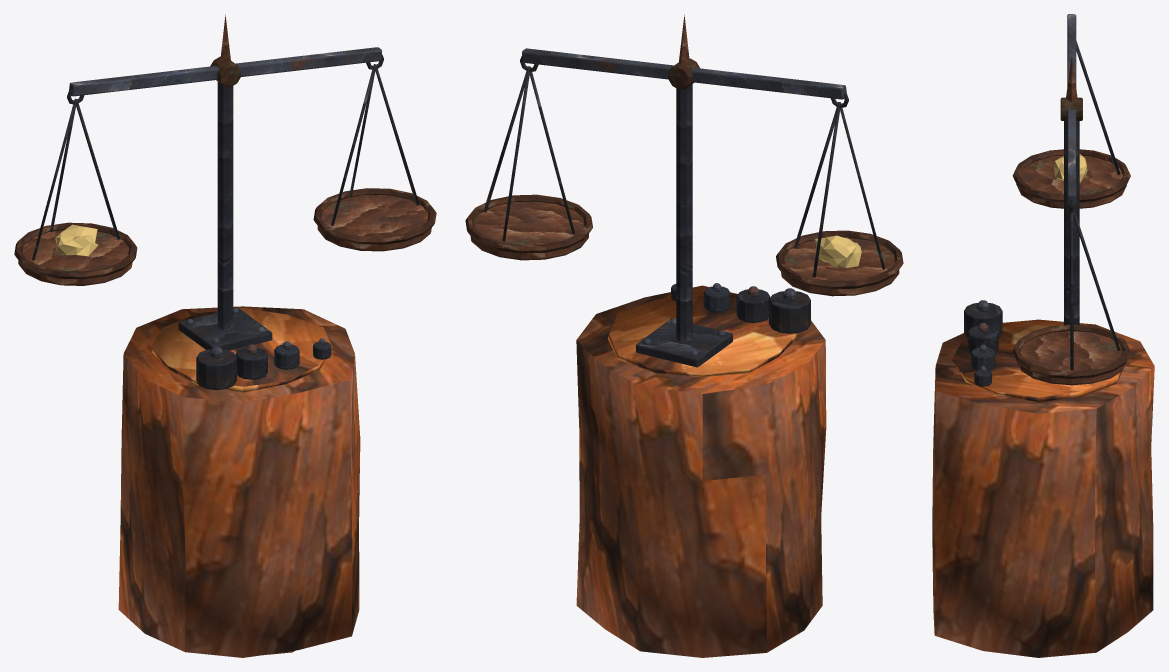
The model's file is op_ore_scale.glb.
3 renders of one model, left to right at view 1: azimuth 30°, elevation 25°; view 2: azimuth 150°, elevation 25°; view 3: azimuth 270°, elevation 25°, orthographic. The views are drawn at different scales.
Parts seen in each view (by area): view 1: model; view 2: model; view 3: model.
Part boxes in pixels (bbox=[...]): model: bbox=[14, 14, 436, 657]; model: bbox=[465, 14, 903, 657]; model: bbox=[932, 14, 1154, 657].
Bounding box in the file's own units: 0.8095 × 1.12 × 0.4022.
Materials: 7 (6 with a texture image).
